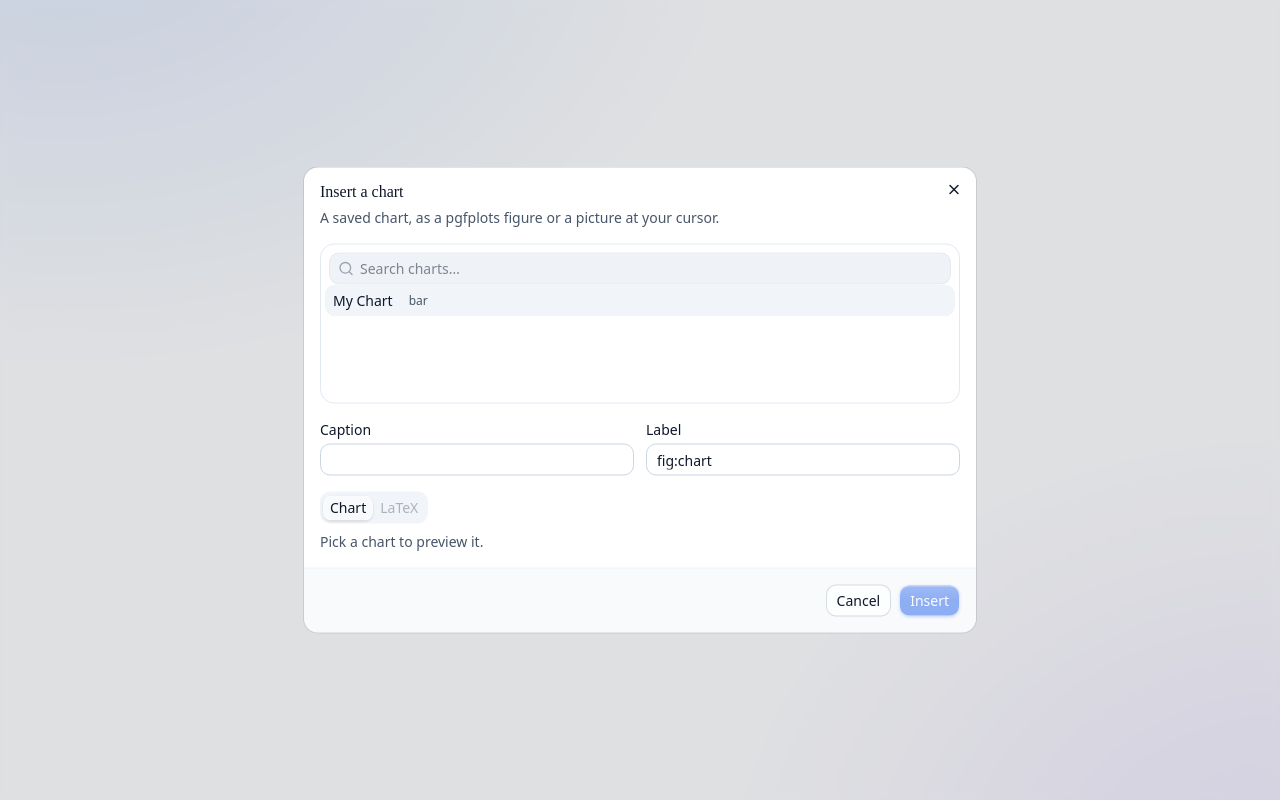
Test case: a pgfplots failure is shown, never offered as LaTeX, and Insert is disabled
Click the option "My Chart bar".
click(363, 300)  # box x1=325 y1=284 x2=955 y2=316
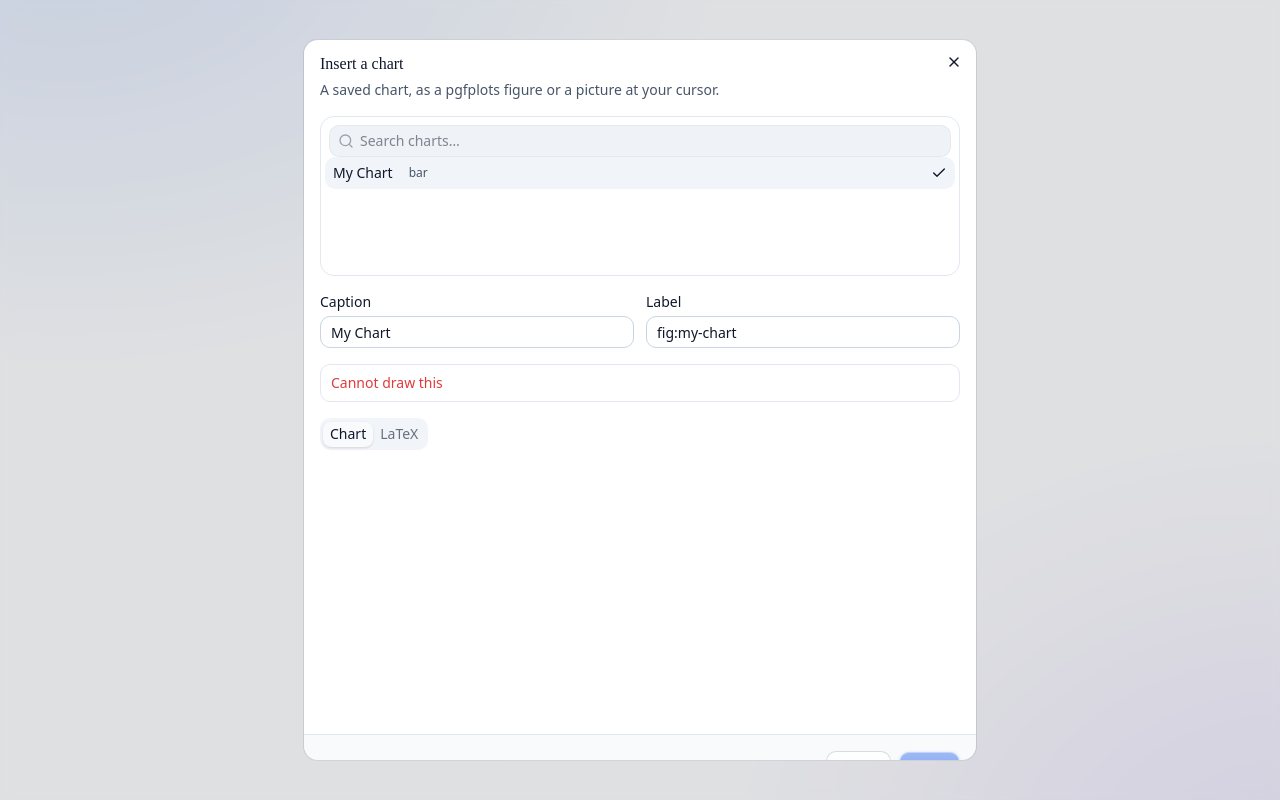
expect the text "Cannot draw this" is shown: met, box x1=331 y1=373 x2=443 y2=392
